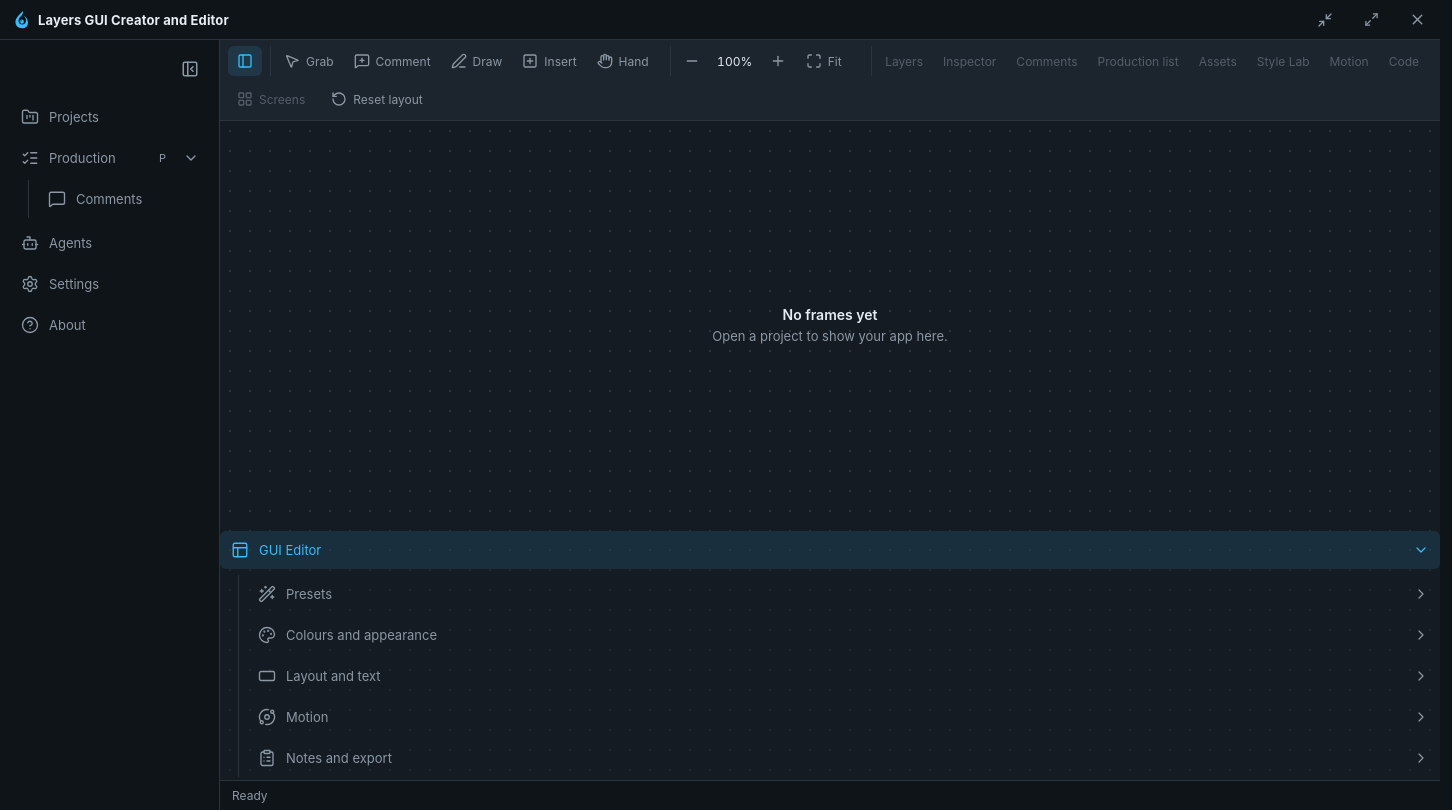
Test case: resizing a minimized menu expands the whole menu and saves the width
This screenshot has width=1452, height=810.
Click the button named "collapse navigation".
click(190, 69)  # box top-left (171, 50), bottom-right (209, 88)
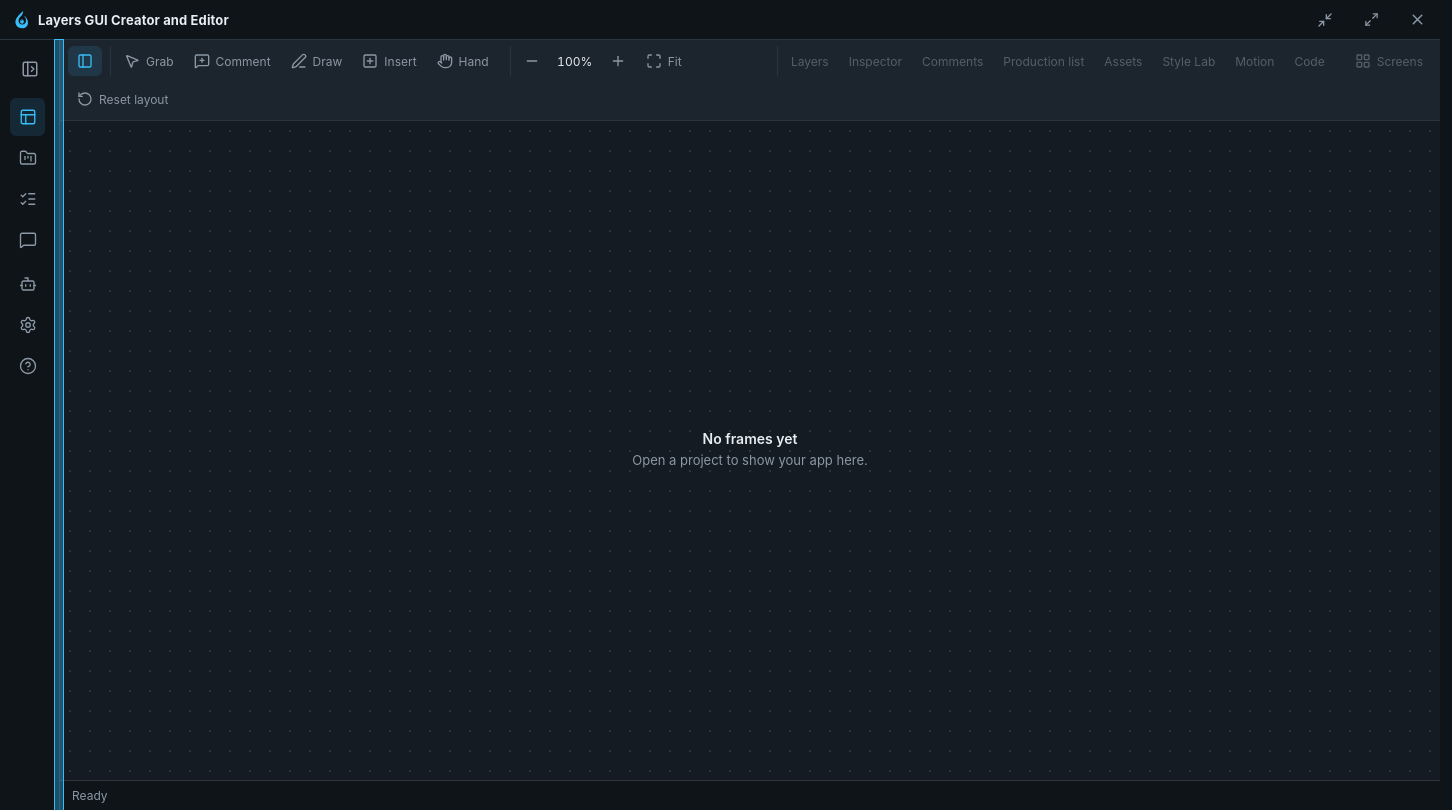
Press Arrowright
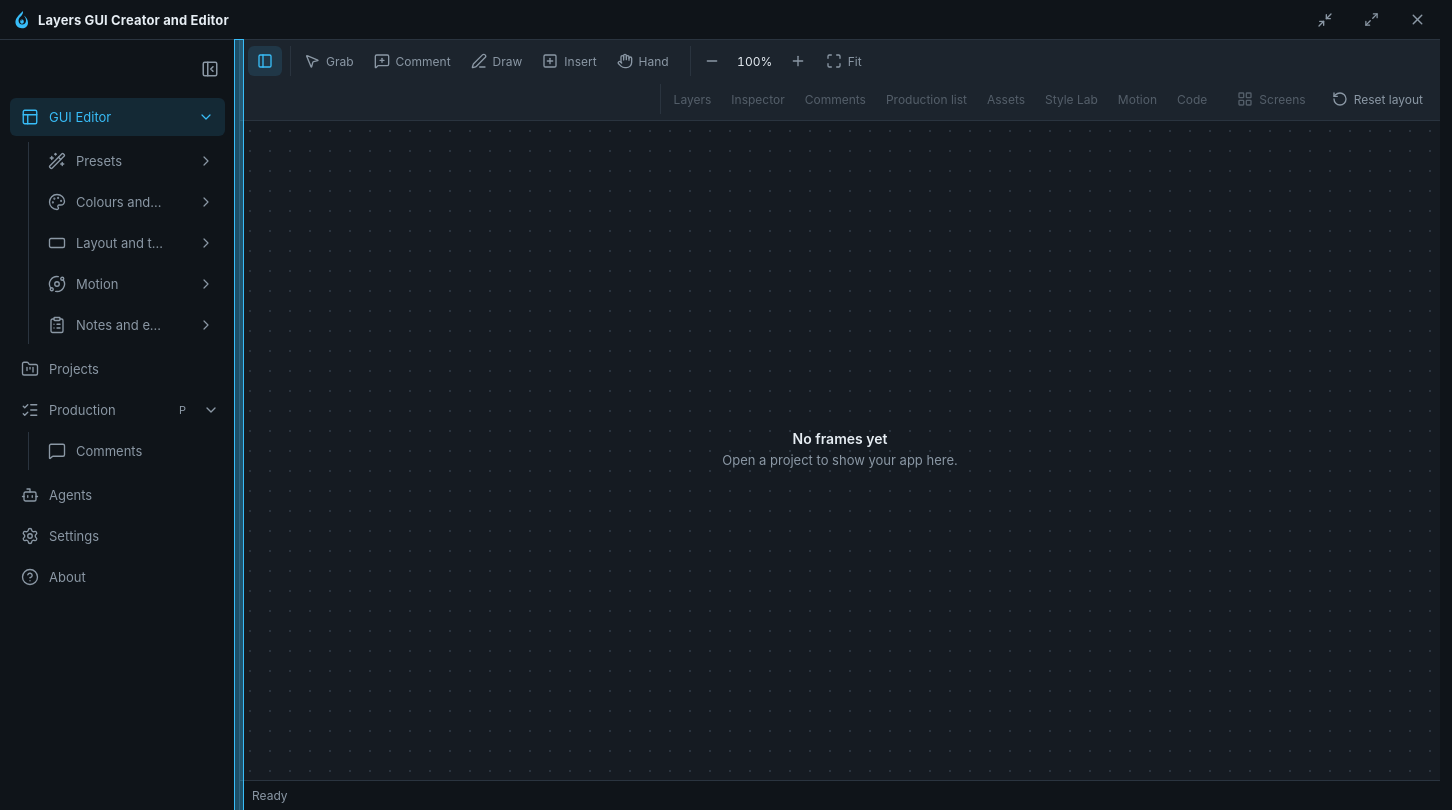
Check: the navigation bar has attribute data-collapsed="false", box top-left (0, 40), bottom-right (240, 809)
